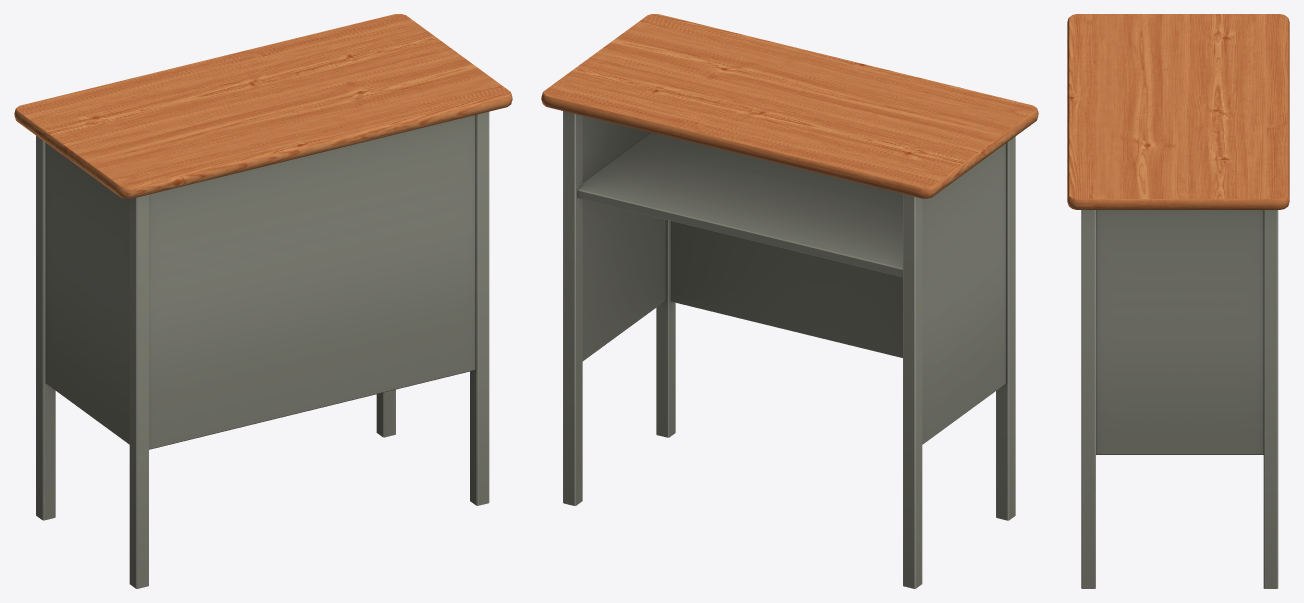
File: teachingTableA.fbx
The picture shows the model from 3 angles, left to right: view 1: azimuth 30°, elevation 25°; view 2: azimuth 150°, elevation 25°; view 3: azimuth 270°, elevation 25°; orthographic projection. The views are drawn at different scales.
Parts seen in each view (by area): view 1: teachingTable_geo; view 2: teachingTable_geo; view 3: teachingTable_geo.
Part boxes in pixels (x1=…): teachingTable_geo: x1=14, y1=14, x2=512, y2=588; teachingTable_geo: x1=541, y1=14, x2=1038, y2=588; teachingTable_geo: x1=1067, y1=14, x2=1289, y2=588.
Bounding box in the file's own units: 90.57 × 90.01 × 45.57.
